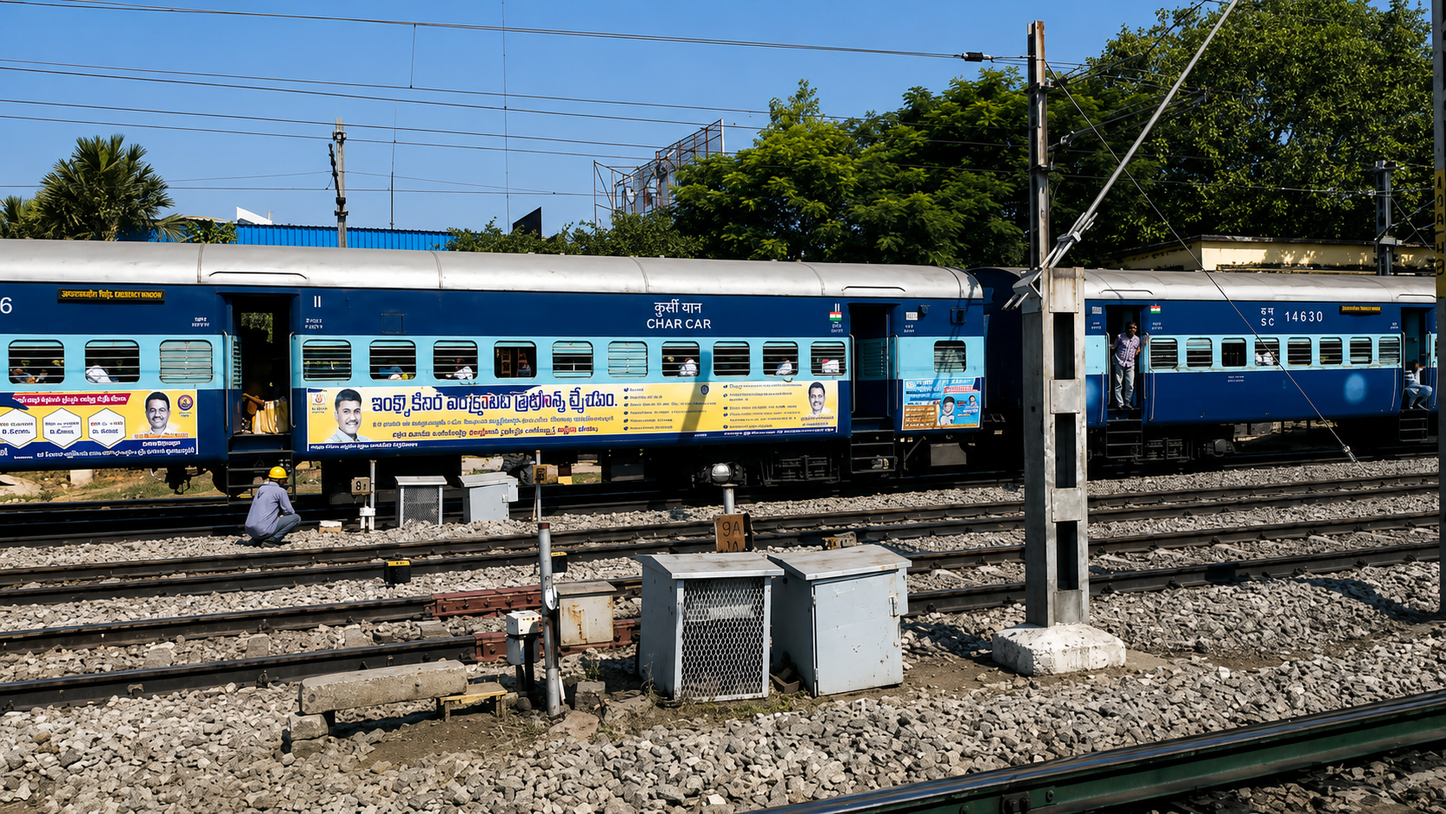Boogie: (1277, 305, 1333, 329)
Car Type: (639, 296, 721, 335)
